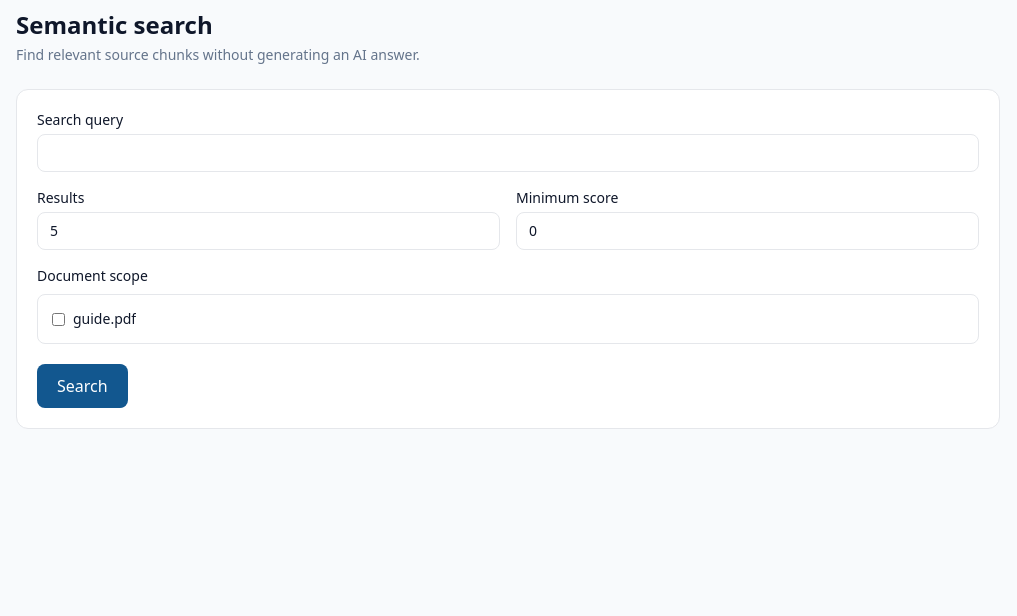
Test case: renders semantic results and embedded document filters
The width and height of the screenshot is (1017, 616).
In the field labelled "Search query": (508, 153) [37, 134, 979, 172], type "authentication"
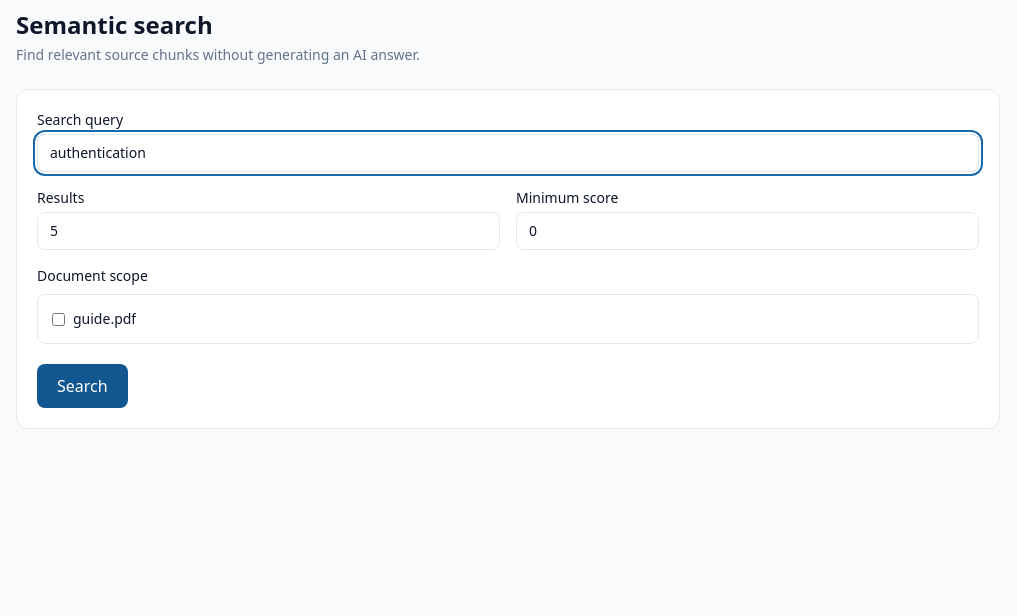
Click the text "guide.pdf": (105, 319) [73, 309, 136, 329]
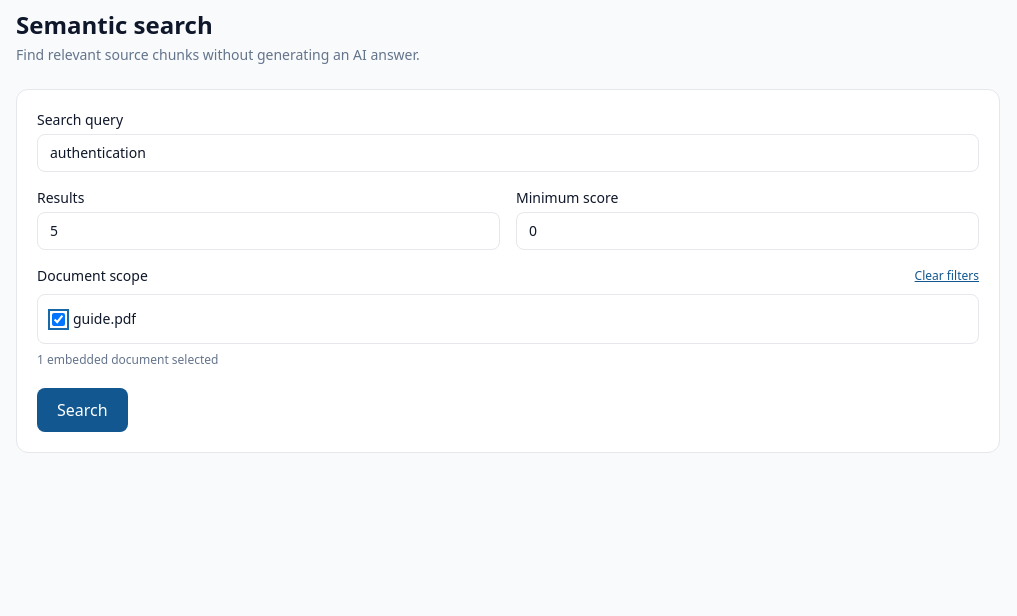
Click the button "Search": (82, 410) [37, 388, 128, 432]
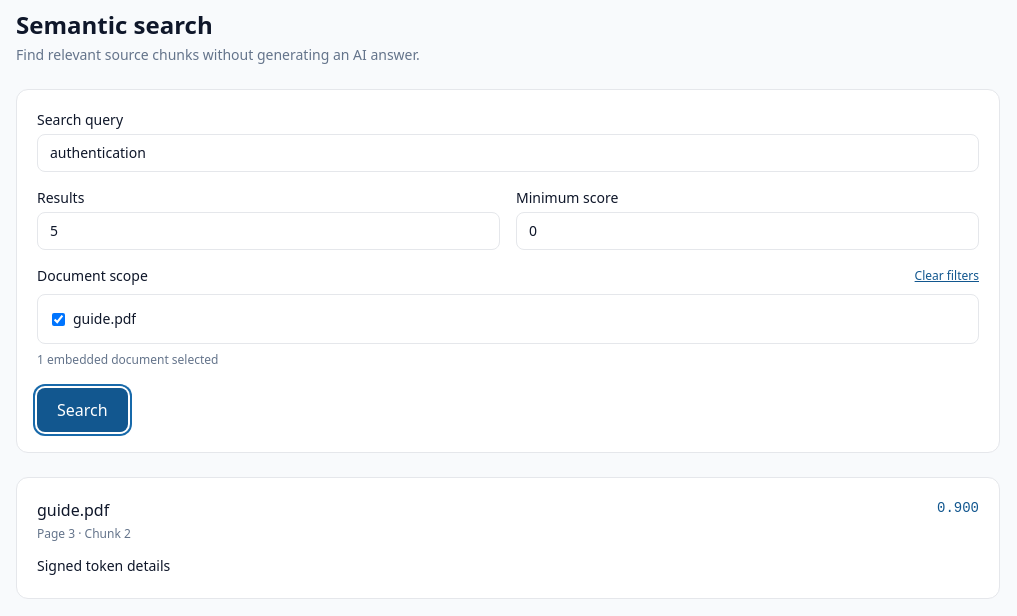
Result: the text "Signed token details" is shown at [37, 556, 170, 575]
Result: the text "Page 3 · Chunk 2" is shown at [37, 525, 131, 542]
